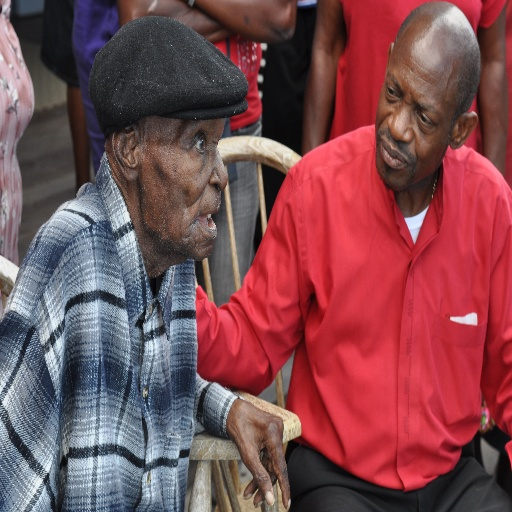hand: (224, 395, 305, 499)
